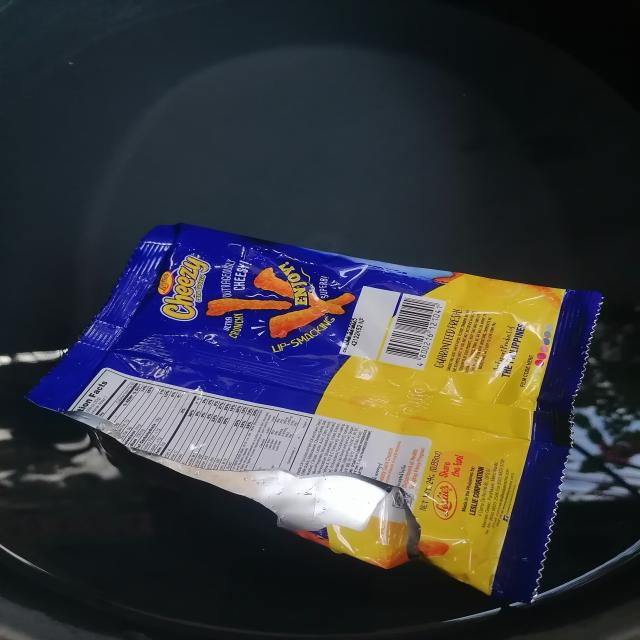Plastic Wrapper: (27, 225, 601, 604)
